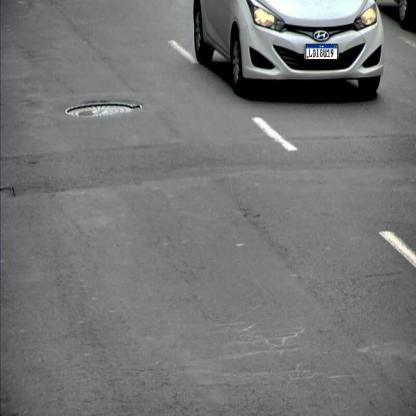PlacaM: (306, 44, 337, 60)
